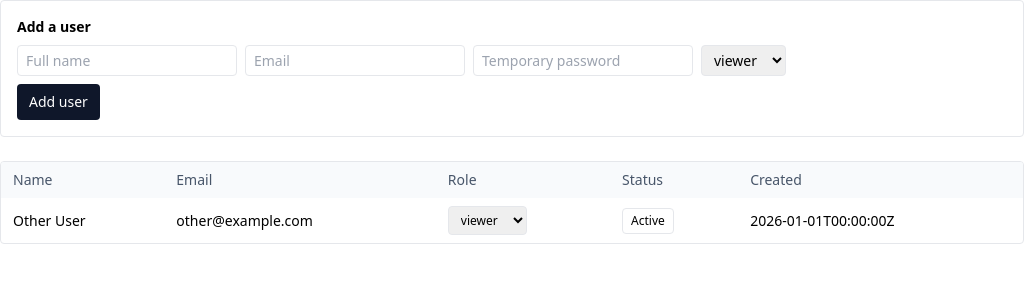
Test: UsersPage › surfaces a row-level error (e.g. a 404 race on a deleted-elsewhere user) without crashing the page
Expected: the table is shown, [1,162,1023,243]
Click the button with aria-label "deactivate other@example.com": (648, 220) [622,208,674,234]
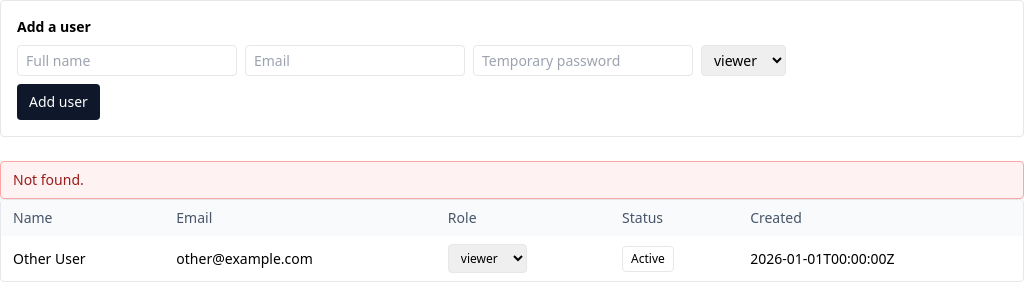
Now the message "Not found." is shown, box [0,161,1023,199]
